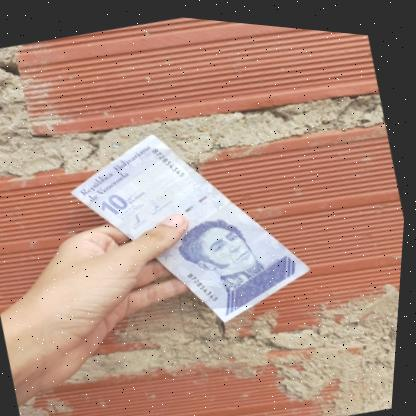ten-front-vef: (54, 91, 330, 357)
